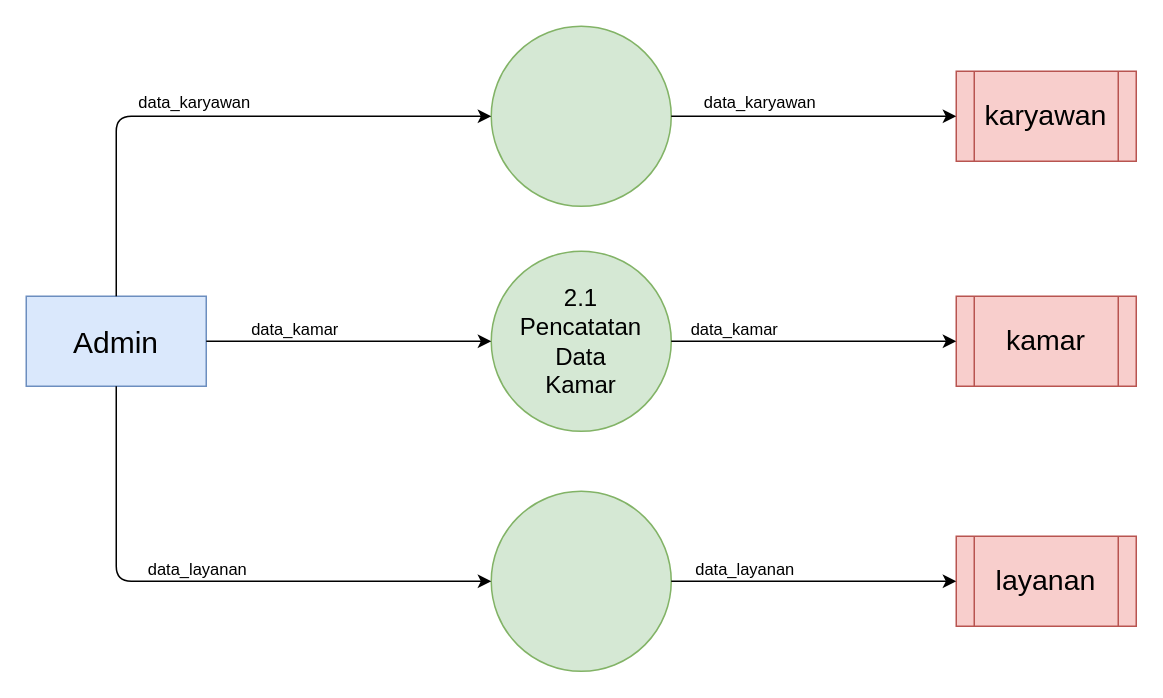
The diagram is 1163 pixels wide and 698 high, and some of its shapes have lost their labels. Here are the shapes that lost their labels. From the top down, the centre of each, then its label:
At point (580, 115): "1.1 Pencatatan Data Karyawan".
At point (580, 580): "3.1 Pencatatan Data Layanan".
